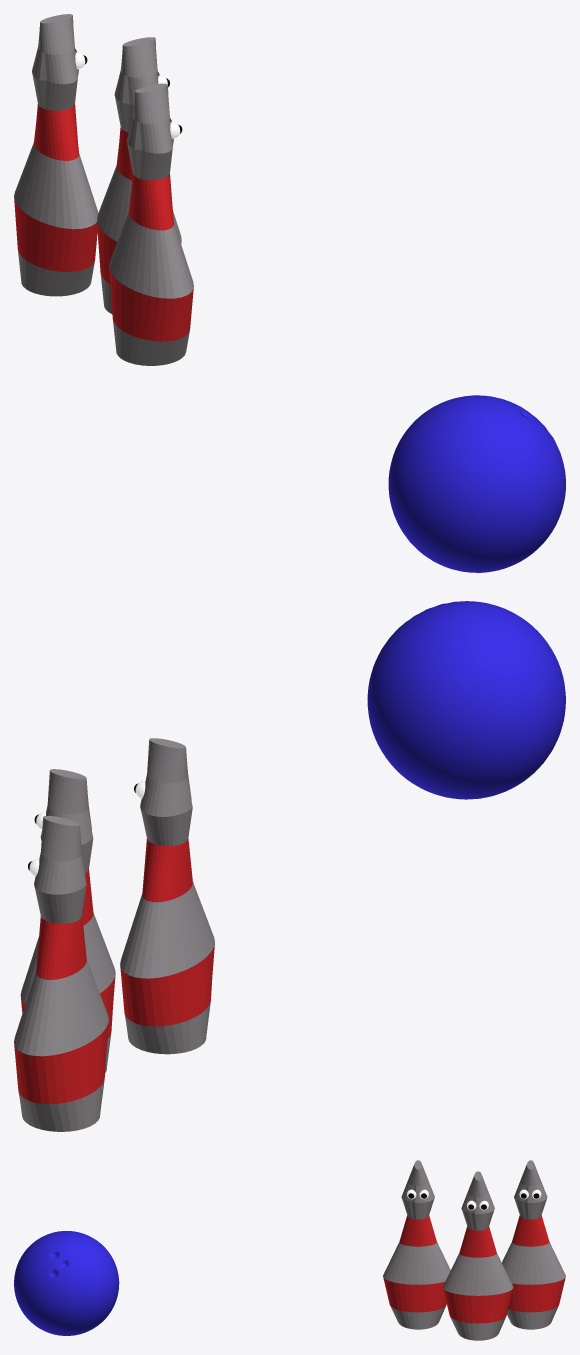
The model's file is Animation3.glb.
3 views of the same model, one above another, from view 1: azimuth 30°, elevation 25°; view 2: azimuth 150°, elevation 25°; view 3: azimuth 270°, elevation 25° (orthographic). The views are drawn at different scales.
Visible parts, largest first — view 1: Sphere, pin.002, pin.001, pin; view 2: Sphere, pin.002, pin.001, pin; view 3: Sphere, pin, pin.002, pin.001.
Part boxes in pixels (box(x1,y1,x2,y2)): Sphere: box(388, 395, 565, 572); pin.002: box(109, 83, 193, 365); pin.001: box(14, 14, 98, 296); pin: box(97, 37, 181, 313); Sphere: box(367, 601, 565, 799); pin.002: box(120, 738, 214, 1054); pin.001: box(14, 816, 108, 1131); pin: box(20, 769, 115, 1073); Sphere: box(14, 1231, 119, 1335); pin: box(443, 1171, 513, 1340); pin.002: box(383, 1160, 450, 1329); pin.001: box(502, 1160, 565, 1329).
Size of what is drawn, in the model's own units: 5.07 by 8.39 by 26.6.
